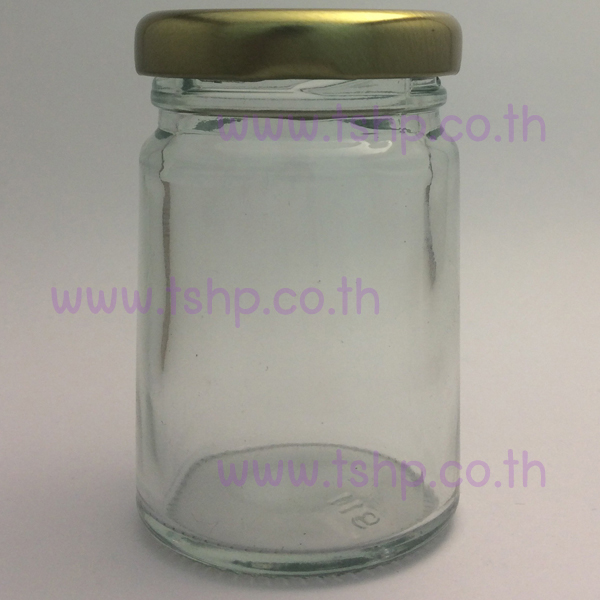glass_bottleww: (100, 1, 517, 600)
